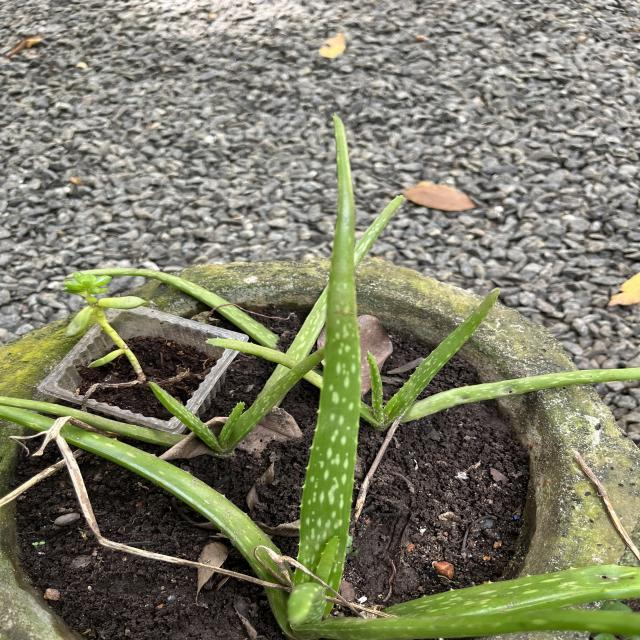Aloe vera: (290, 108, 374, 593)
